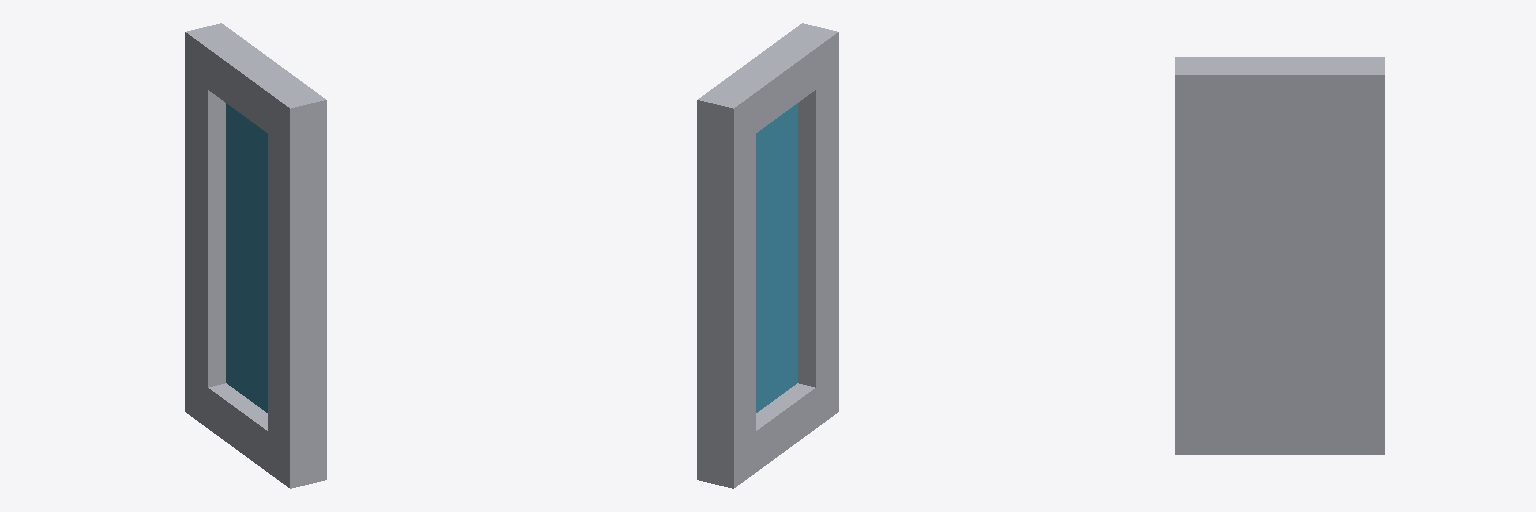
3 views of the same model, side by side, from view 1: azimuth 30°, elevation 25°; view 2: azimuth 150°, elevation 25°; view 3: azimuth 270°, elevation 25° (orthographic).
Parts seen in each view (by area): view 1: G-__556248_G-__556248_Metal, G-__556248_G-__556248_Glass; view 2: G-__556248_G-__556248_Metal, G-__556248_G-__556248_Glass; view 3: G-__556248_G-__556248_Metal.
Part boxes in pixels (x1,y1,x2,y2): G-__556248_G-__556248_Metal: (185, 23, 326, 488); G-__556248_G-__556248_Glass: (226, 103, 267, 412); G-__556248_G-__556248_Metal: (697, 23, 838, 488); G-__556248_G-__556248_Glass: (756, 103, 797, 412); G-__556248_G-__556248_Metal: (1175, 57, 1384, 454).
Size of the model in its own units: 0.05 by 0.5 by 0.25.